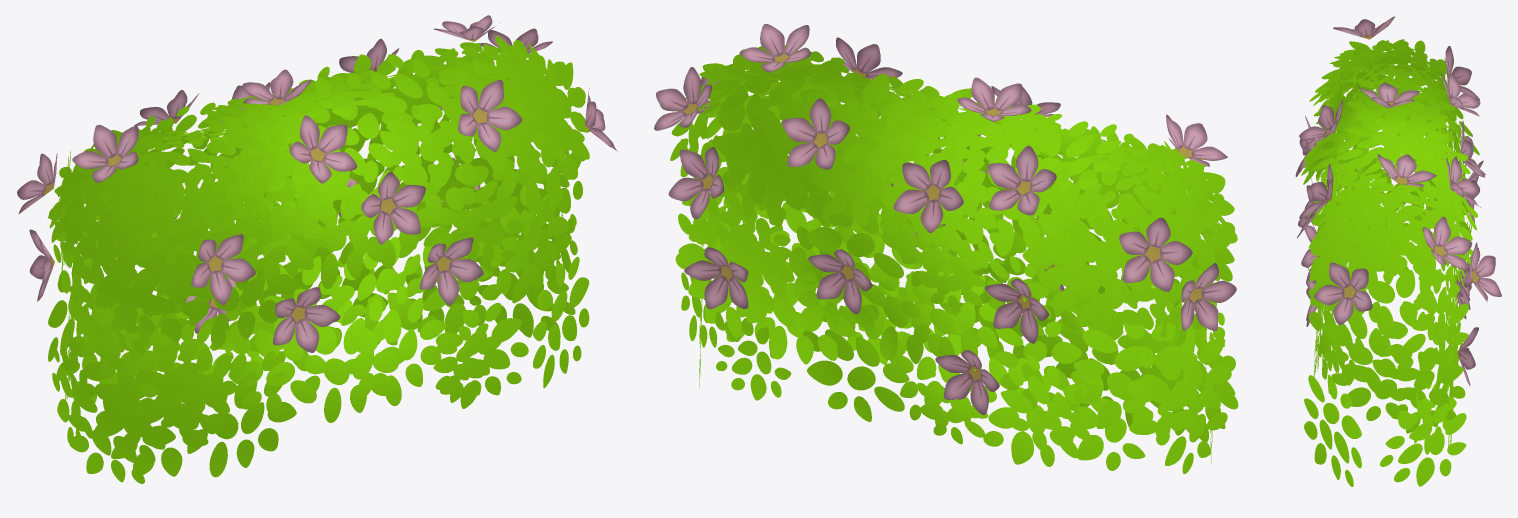
Rendered from Bush_Large_Flowers.glb.
3 renders of one model, left to right at view 1: azimuth 30°, elevation 25°; view 2: azimuth 150°, elevation 25°; view 3: azimuth 270°, elevation 25°, orthographic. The views are drawn at different scales.
Parts seen in each view (by area): view 1: Bush_Large_Flowers; view 2: Bush_Large_Flowers; view 3: Bush_Large_Flowers.
Part boxes in pixels (box(x1,y1,x2,y2)): Bush_Large_Flowers: box(17, 15, 617, 483); Bush_Large_Flowers: box(654, 24, 1238, 473); Bush_Large_Flowers: box(1295, 16, 1501, 486).
Size of the model in its own units: 1.93 by 1.26 by 0.7616.
2 materials, 2 textured.
